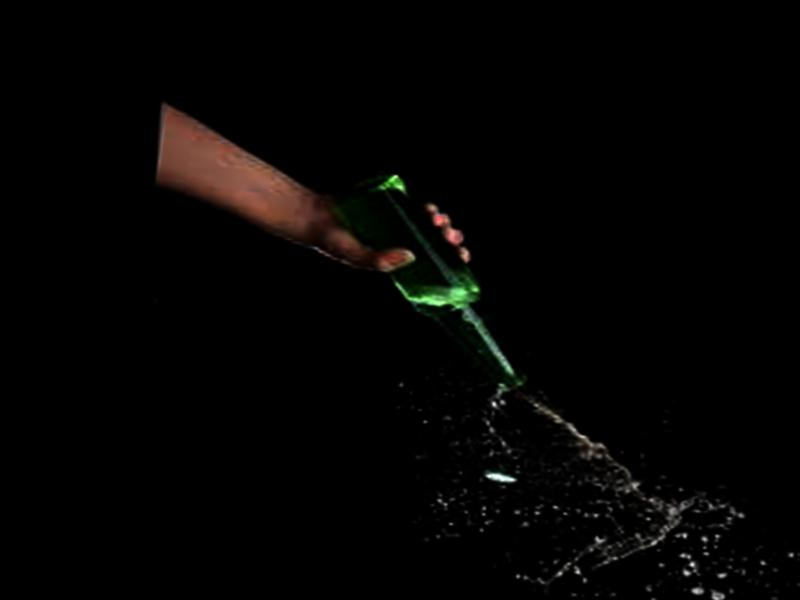Beer: (306, 160, 547, 393)
